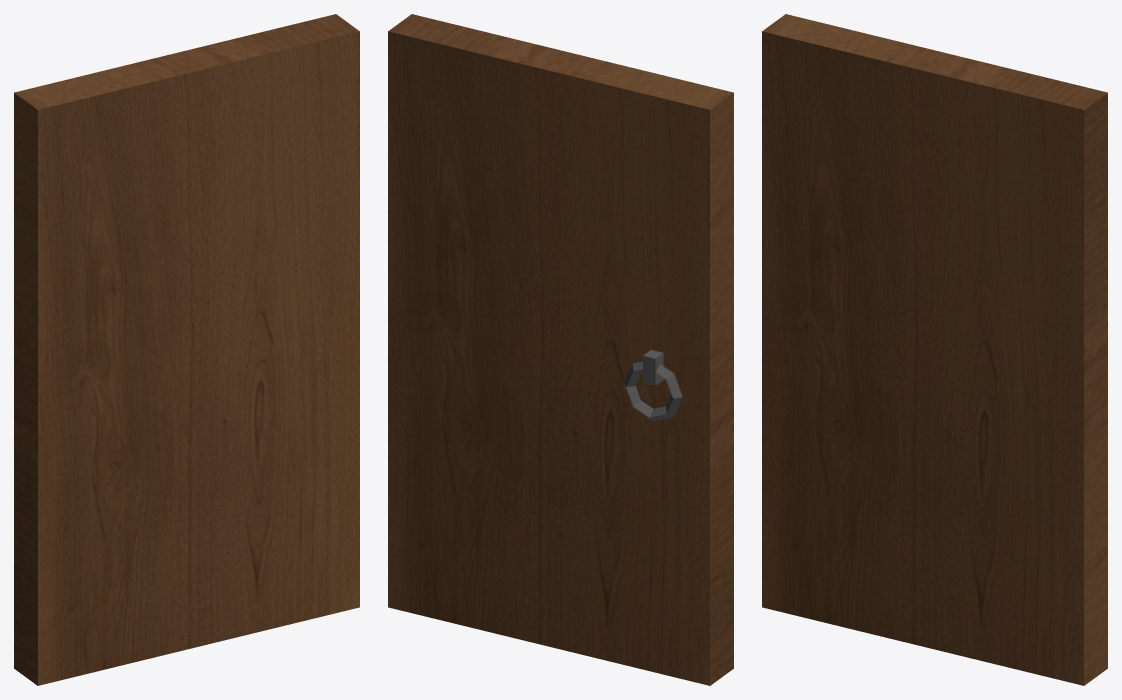
File: Door.fbx
3 renders of one model, left to right at view 1: azimuth 30°, elevation 25°; view 2: azimuth 150°, elevation 25°; view 3: azimuth 330°, elevation 25°, orthographic.
Visible parts, largest first — view 1: M_Door_MedievalDiningRoom_FinalScene2:blinn3_0; view 2: M_Door_MedievalDiningRoom_FinalScene2:blinn3_0; view 3: M_Door_MedievalDiningRoom_FinalScene2:blinn3_0.
Part boxes in pixels (bbox=[...]): M_Door_MedievalDiningRoom_FinalScene2:blinn3_0: bbox=[14, 14, 359, 685]; M_Door_MedievalDiningRoom_FinalScene2:blinn3_0: bbox=[388, 14, 733, 685]; M_Door_MedievalDiningRoom_FinalScene2:blinn3_0: bbox=[762, 14, 1107, 685].
Size of the model in its own units: 36.52 by 62.42 by 6.26.
Materials: 1 (1 with a texture image).
